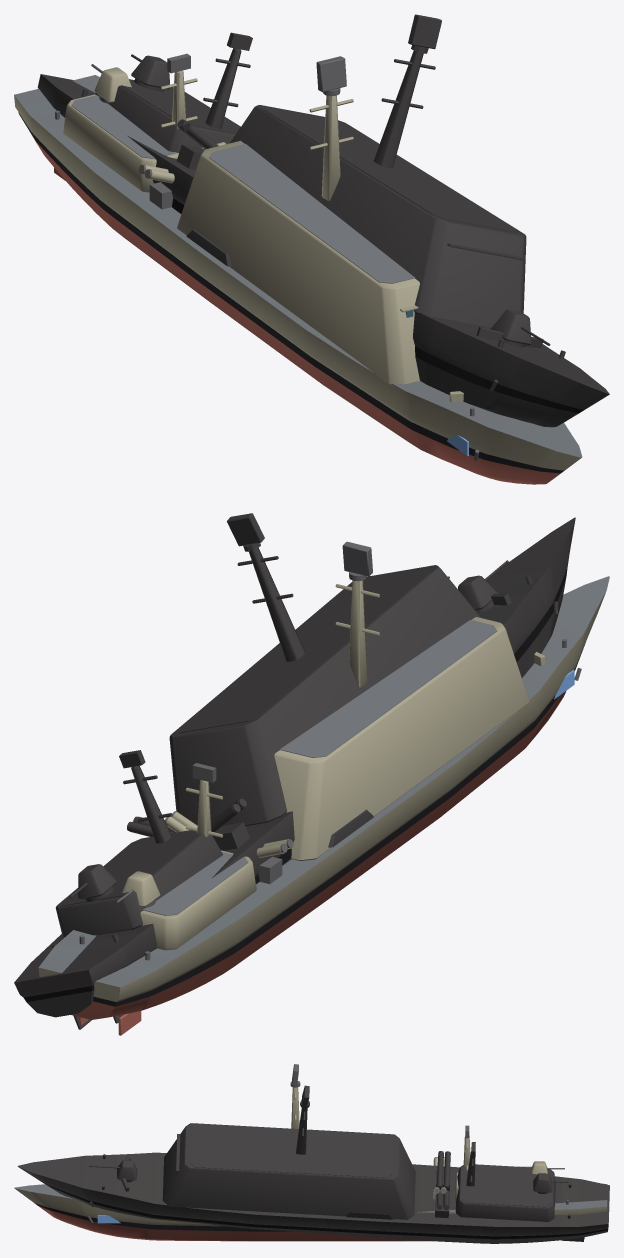
The model's file is missileBoat__yoon_youngha_class.glb.
The picture shows the model from 3 angles, top to bottom: view 1: azimuth 30°, elevation 25°; view 2: azimuth 150°, elevation 25°; view 3: azimuth 270°, elevation 25°; orthographic projection. The views are drawn at different scales.
Visible parts, largest first — view 1: Hull_Mesh, Wreck, Radar_Mesh; view 2: Hull_Mesh, Wreck, Radar_Mesh; view 3: Wreck, Hull_Mesh.
Part boxes in pixels (x1=…): Hull_Mesh: x1=14, y1=53, x2=582, y2=484; Wreck: x1=37, y1=14, x2=609, y2=427; Radar_Mesh: x1=316, y1=56, x2=346, y2=96; Hull_Mesh: x1=38, y1=576, x2=609, y2=1035; Wreck: x1=14, y1=513, x2=575, y2=1029; Radar_Mesh: x1=342, y1=541, x2=372, y2=581; Wreck: x1=17, y1=1085, x2=609, y2=1243; Hull_Mesh: x1=14, y1=1087, x2=607, y2=1241.
Size of what is drawn, in the model's own units: 13.04 by 21.62 by 65.94.
